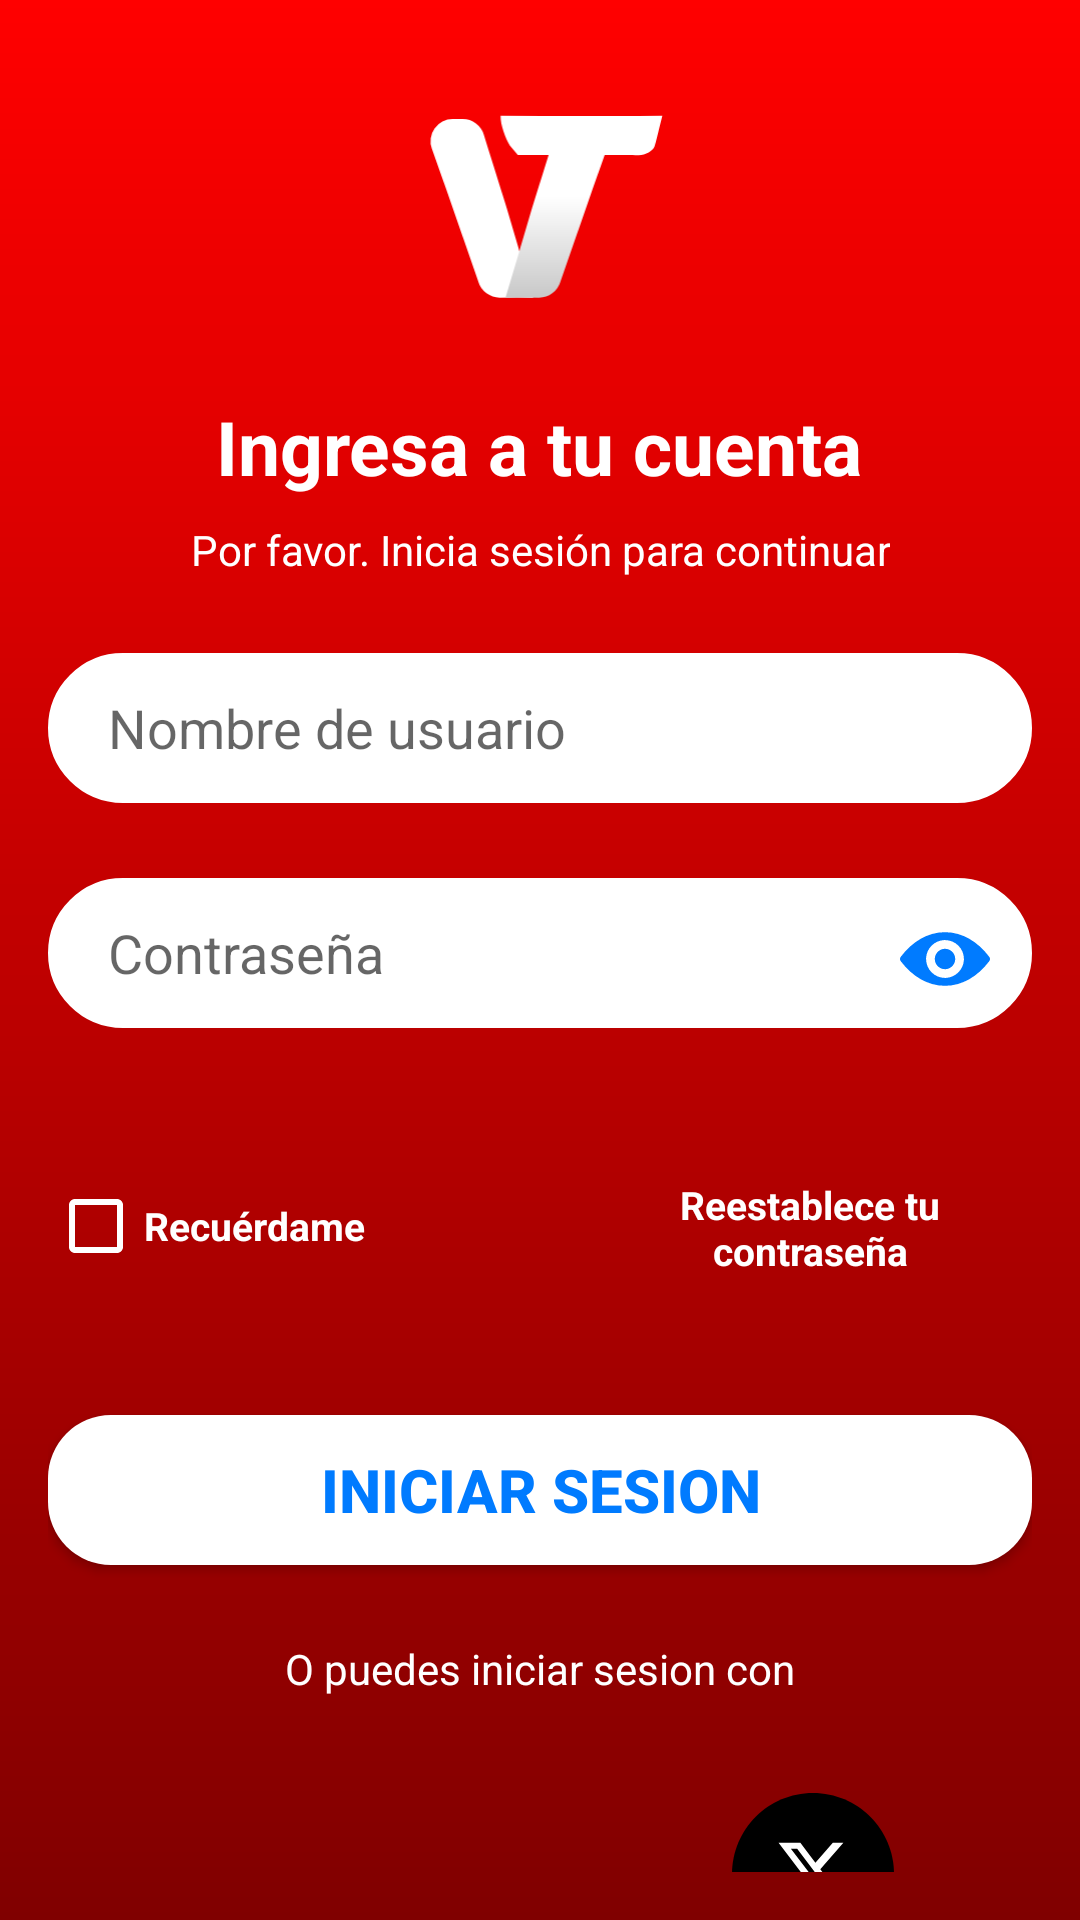

Named icons in this screenshot (1080w x 1920h) and their centers, (x=x, y=y):
eye: (x=945, y=959)
